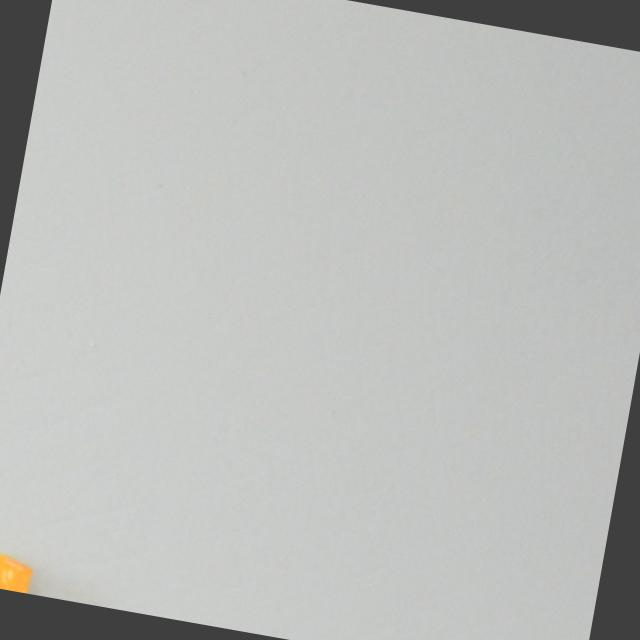dañado: (0, 539, 40, 594)
